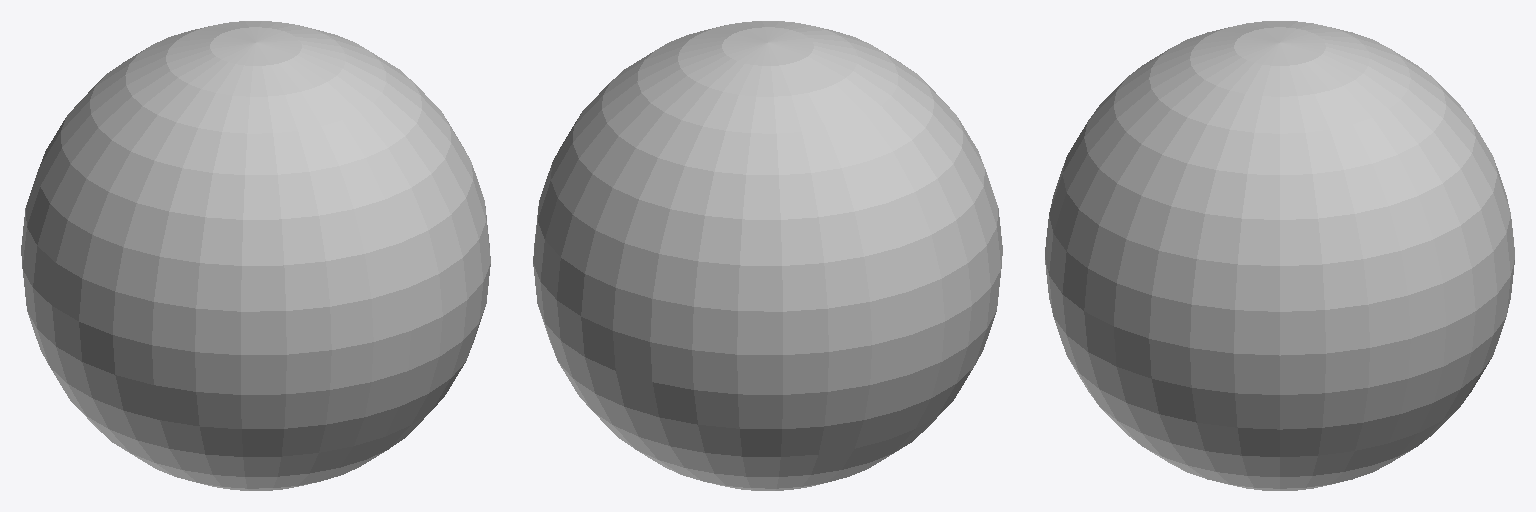
Rendered from bullet proyectil.obj.
3 views of the same model, side by side, from view 1: azimuth 30°, elevation 25°; view 2: azimuth 150°, elevation 25°; view 3: azimuth 270°, elevation 25° (orthographic).
Parts seen in each view (by area): view 1: Sphere; view 2: Sphere; view 3: Sphere.
Part boxes in pixels (left/top/right/bottom): Sphere: left=21, top=21, right=490, bottom=490; Sphere: left=533, top=21, right=1002, bottom=490; Sphere: left=1045, top=21, right=1514, bottom=490.
Size of the model in its own units: 2 by 2 by 2.